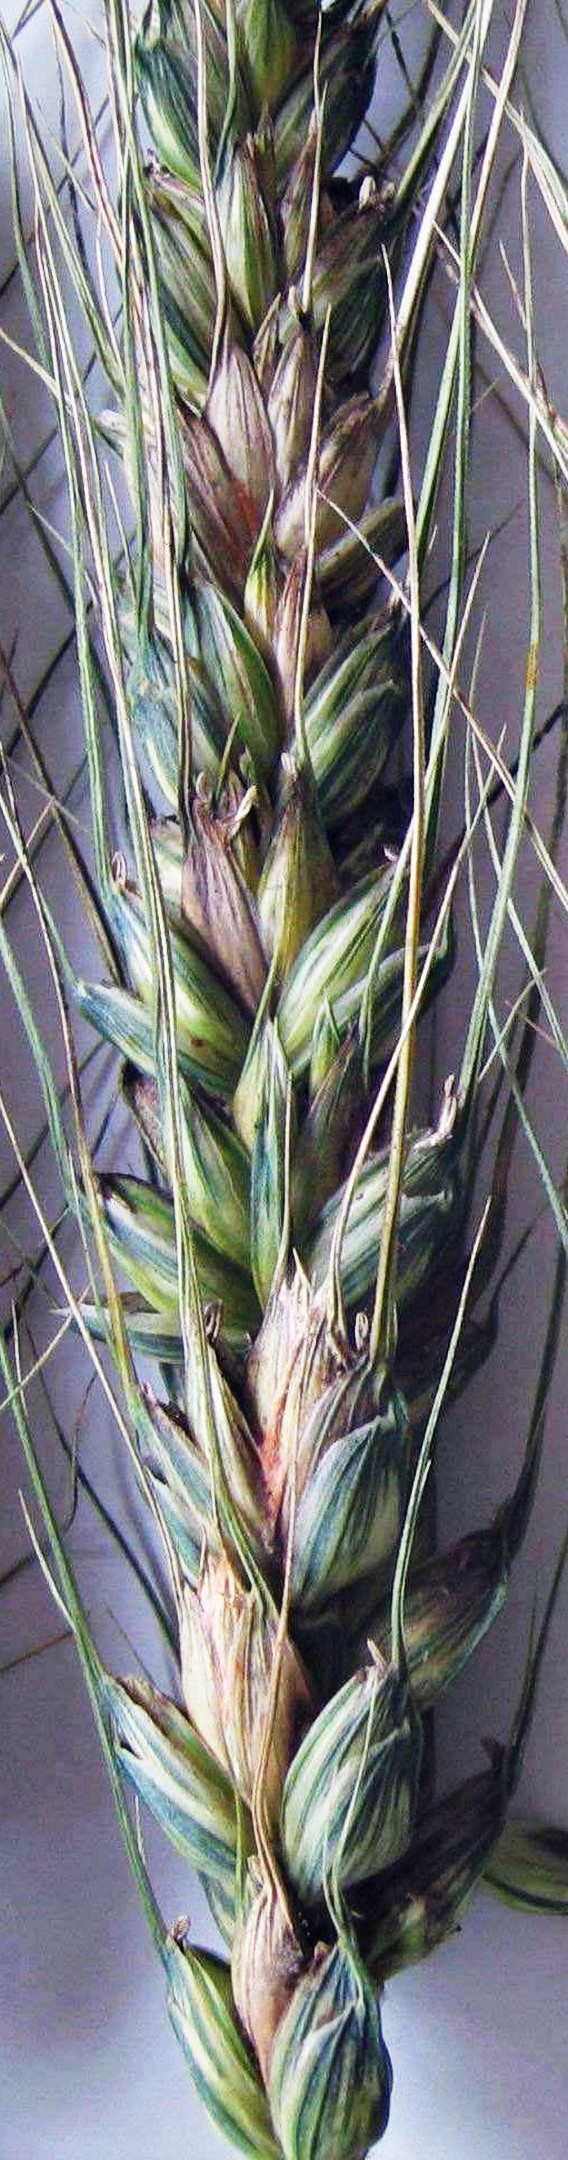Wheat scab: (32, 22, 518, 2087)
